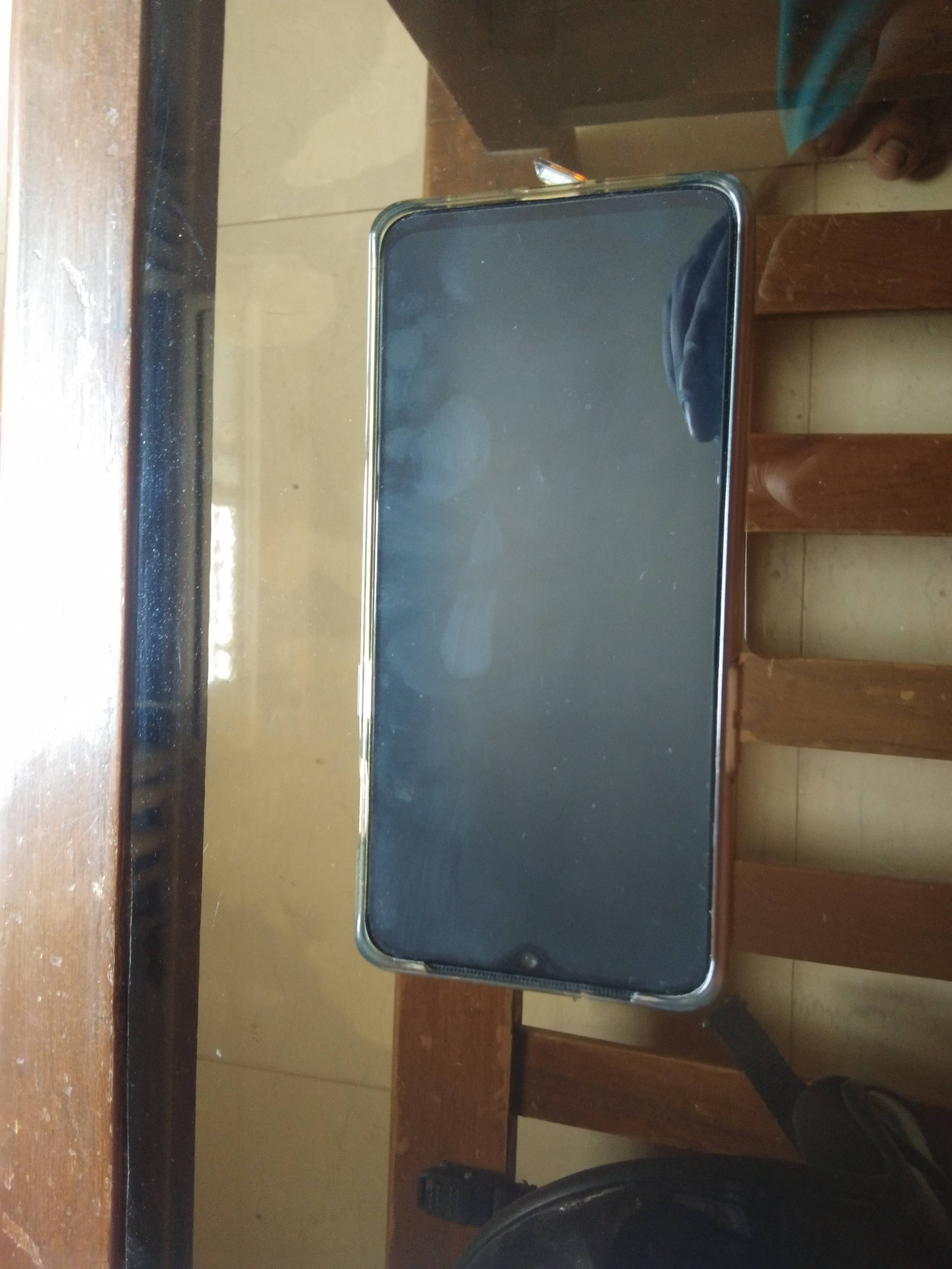Electronics: (331, 145, 776, 1035)
